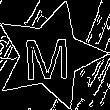M_N: (25, 30, 75, 82)
